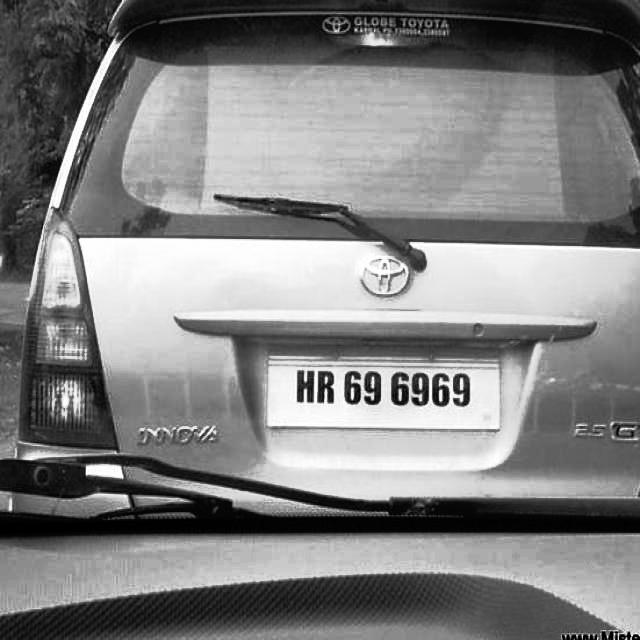Car: (23, 0, 640, 530)
